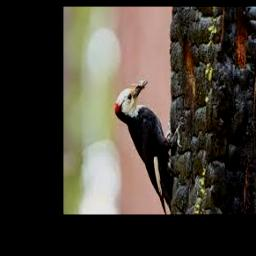Woodpecker: (116, 77, 184, 215)
